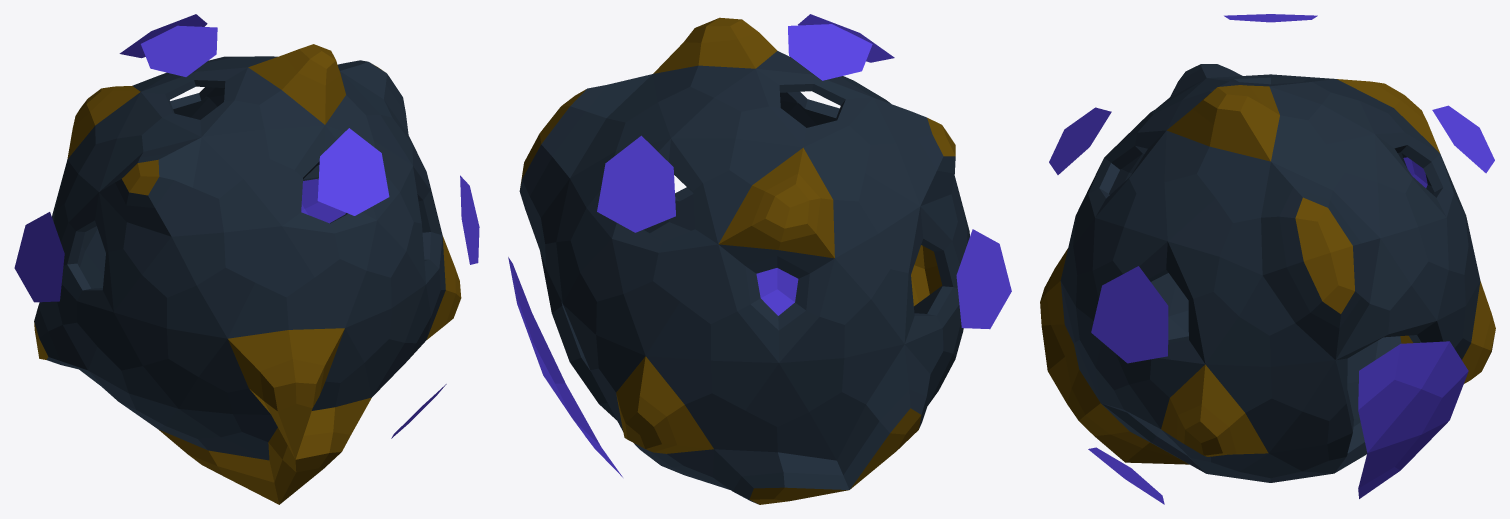
Rendered from Planet3Dest2.glb.
3 views of the same model, side by side, from view 1: azimuth 30°, elevation 25°; view 2: azimuth 150°, elevation 25°; view 3: azimuth 270°, elevation 25° (orthographic). The views are drawn at different scales.
Parts seen in each view (by area): view 1: Icosphere.064; view 2: Icosphere.064; view 3: Icosphere.064.
Part boxes in pixels (x1=…): Icosphere.064: x1=14, y1=14, x2=479, y2=504; Icosphere.064: x1=508, y1=14, x2=1011, y2=504; Icosphere.064: x1=1040, y1=14, x2=1495, y2=504.
Size of the model in its own units: 2.02 by 2.07 by 1.93.
